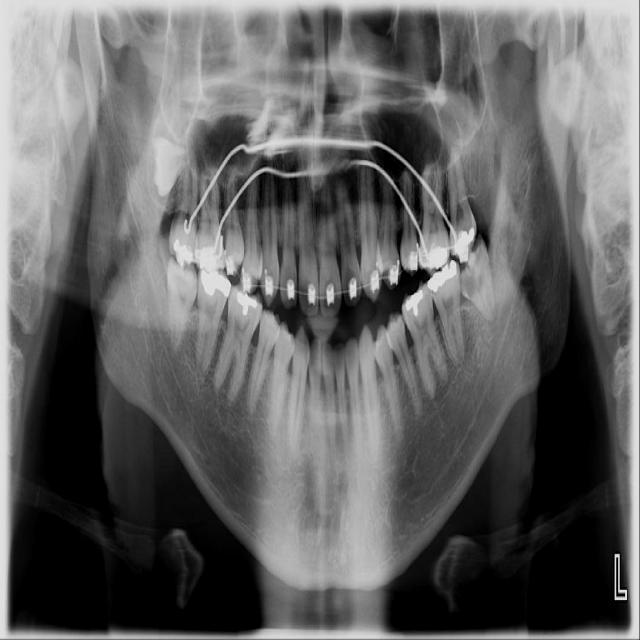Caries: (459, 269, 481, 297)
Filling: (426, 259, 457, 292), (201, 271, 233, 297), (237, 292, 258, 315), (405, 290, 423, 316)
Periapical lesion: (425, 384, 445, 405), (219, 396, 240, 416), (436, 372, 451, 396), (452, 351, 469, 371)
impacted tooth: (168, 259, 196, 355), (153, 137, 188, 196)
